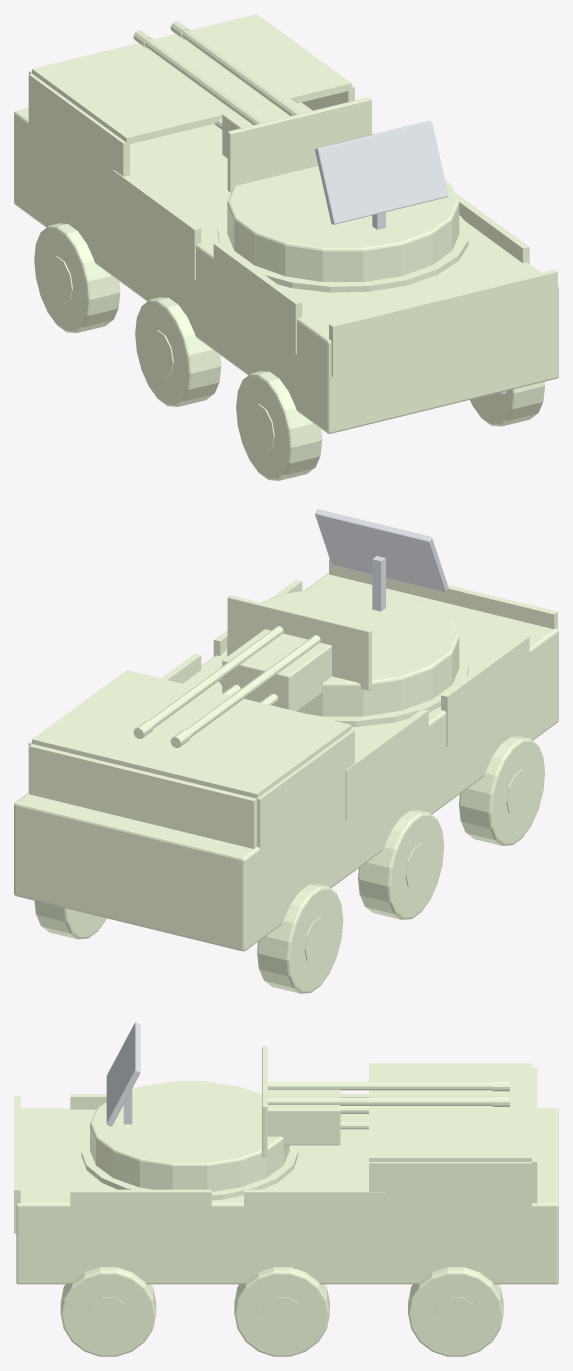
3 views of the same model, one above another, from view 1: azimuth 30°, elevation 25°; view 2: azimuth 150°, elevation 25°; view 3: azimuth 270°, elevation 25° (orthographic). The views are drawn at different scales.
Parts seen in each view (by area): view 1: Hull, CabRoof, Turret, BedGate, RadarPanel, _GunShield, CabSideL, Wheel1L_Tire, Wheel0L_Tire, Wheel2L_Tire, BedSideRearL, BedSideMidL (+8 smaller); view 2: Hull, CabRoof, Turret, CabFront, CannonTube, CabSideL, RadarPanel, Wheel1L_Tire, Wheel2L_Tire, Wheel0L_Tire, _GunShield, BedSideRearL (+9 smaller); view 3: Hull, Turret, CabRoof, CabSideR, CannonTube, BedSideRearR, BedSideMidR, Wheel2R_Tire, Wheel1R_Tire, Wheel0R_Tire, RadarPanel, TurretRing (+7 smaller).
Boxes of the visible parts, <box> form: Hull: <box>14,102,558,433</box>; CabRoof: <box>32,14,351,144</box>; Turret: <box>227,166,459,281</box>; BedGate: <box>329,269,557,376</box>; RadarPanel: <box>315,121,448,224</box>; _GunShield: <box>227,97,371,192</box>; CabSideL: <box>28,73,129,206</box>; Wheel1L_Tire: <box>135,297,221,406</box>; Wheel0L_Tire: <box>34,223,120,332</box>; Wheel2L_Tire: <box>236,371,322,480</box>; BedSideRearL: <box>213,242,302,353</box>; BedSideMidL: <box>112,170,201,280</box>; Hull: <box>14,573,558,951</box>; CabRoof: <box>32,670,351,798</box>; Turret: <box>227,587,459,716</box>; CabFront: <box>29,744,256,848</box>; CannonTube: <box>133,626,331,747</box>; CabSideL: <box>257,729,354,869</box>; RadarPanel: <box>315,509,448,592</box>; Wheel1L_Tire: <box>358,810,444,919</box>; Wheel2L_Tire: <box>459,736,544,845</box>; Wheel0L_Tire: <box>257,884,343,993</box>; _GunShield: <box>227,595,371,690</box>; BedSideRearL: <box>441,635,529,746</box>; Hull: <box>16,1108,558,1284</box>; Turret: <box>90,1081,289,1191</box>; CabRoof: <box>369,1063,531,1161</box>; CabSideR: <box>369,1162,531,1224</box>; CannonTube: <box>267,1081,509,1145</box>; BedSideRearR: <box>70,1189,211,1235</box>; BedSideMidR: <box>244,1189,385,1235</box>; Wheel2R_Tire: <box>60,1267,156,1356</box>; Wheel1R_Tire: <box>234,1267,329,1356</box>; Wheel0R_Tire: <box>408,1267,503,1356</box>; RadarPanel: <box>106,1022,140,1126</box>; TurretRing: <box>81,1134,298,1200</box>.
Bounding box in the file's own units: 2.36 × 2.62 × 5.02.
